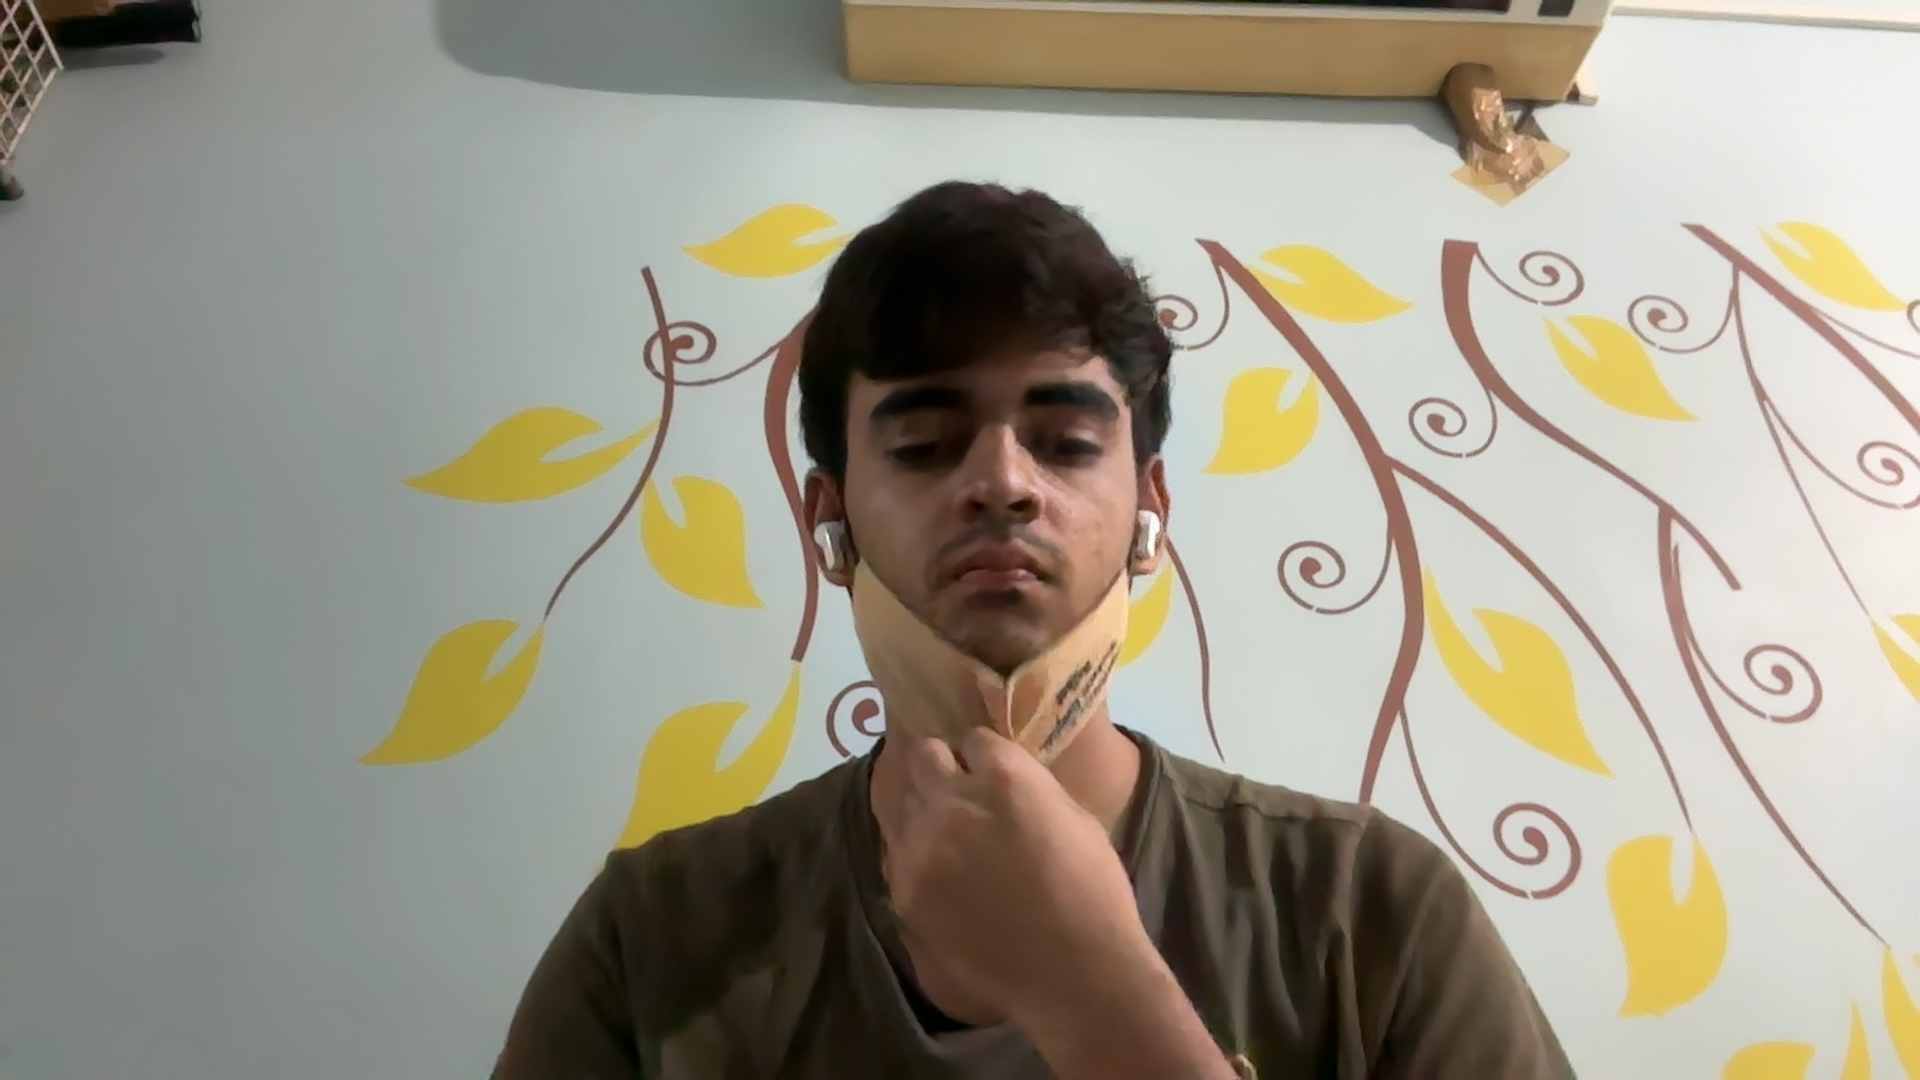No Mask: (842, 478, 1143, 750)
